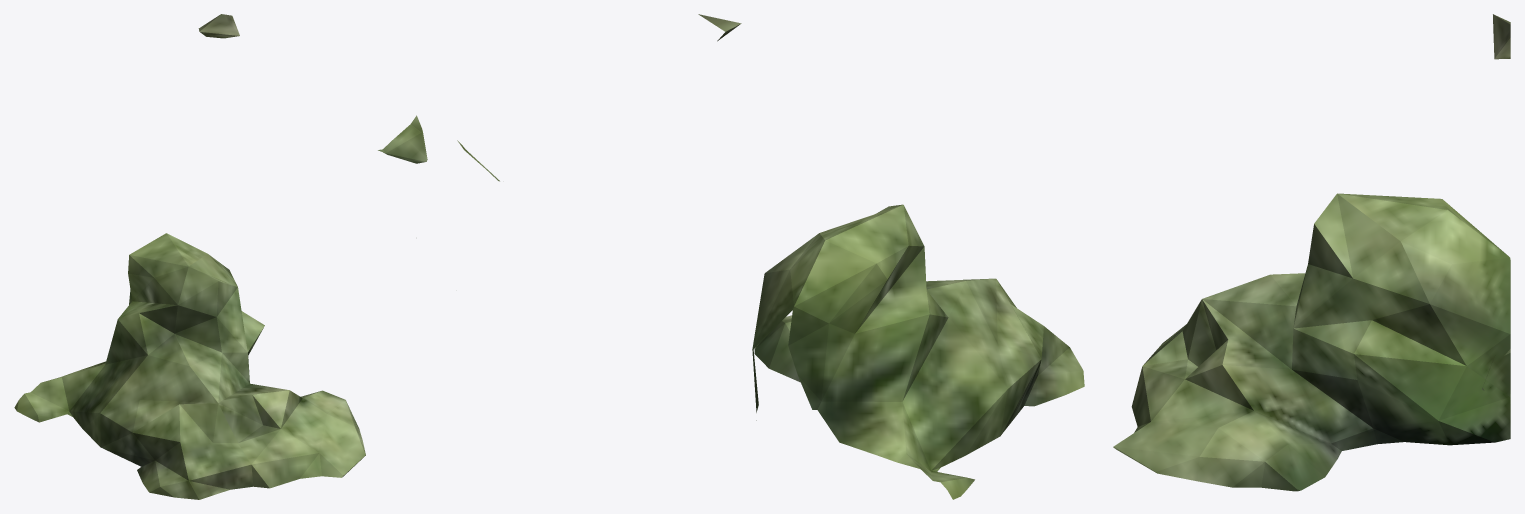
The picture shows the model from 3 angles, left to right: view 1: azimuth 30°, elevation 25°; view 2: azimuth 150°, elevation 25°; view 3: azimuth 270°, elevation 25°; orthographic projection. The views are drawn at different scales.
Size of the model in its own units: 19.63 by 15.92 by 12.93.
1 material, 1 textured.
